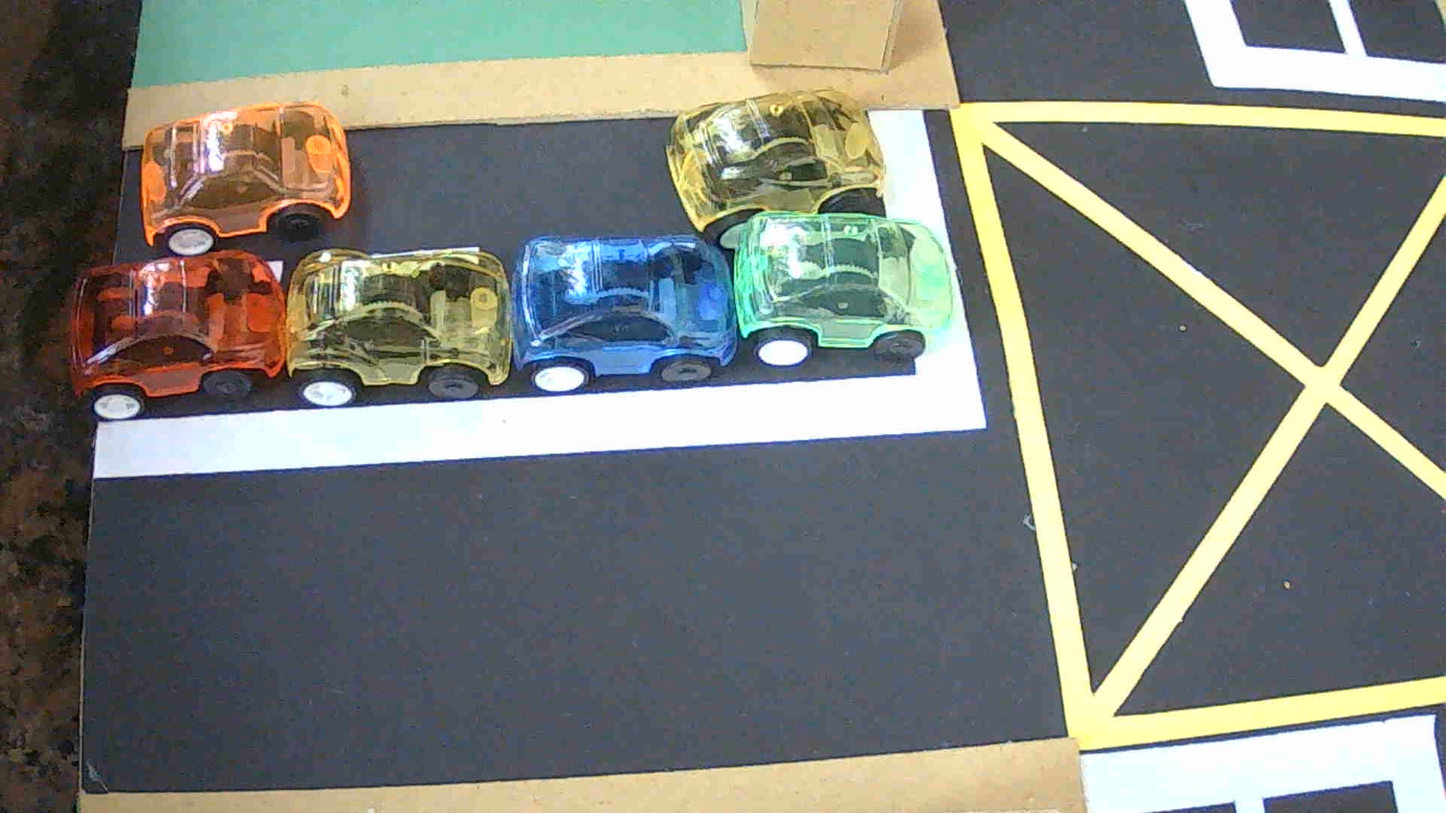Mobil biru: (510, 235, 738, 392)
Mobil hijau: (733, 212, 951, 365)
Mobil kuning: (286, 247, 512, 406), (666, 89, 886, 251)
Mobil merah: (69, 250, 285, 419)
Mobil orange: (140, 102, 352, 255)
